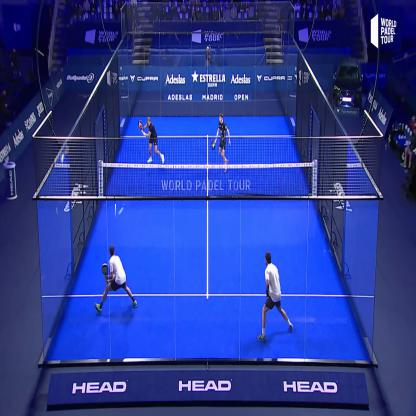ball: (115, 204, 126, 218)
